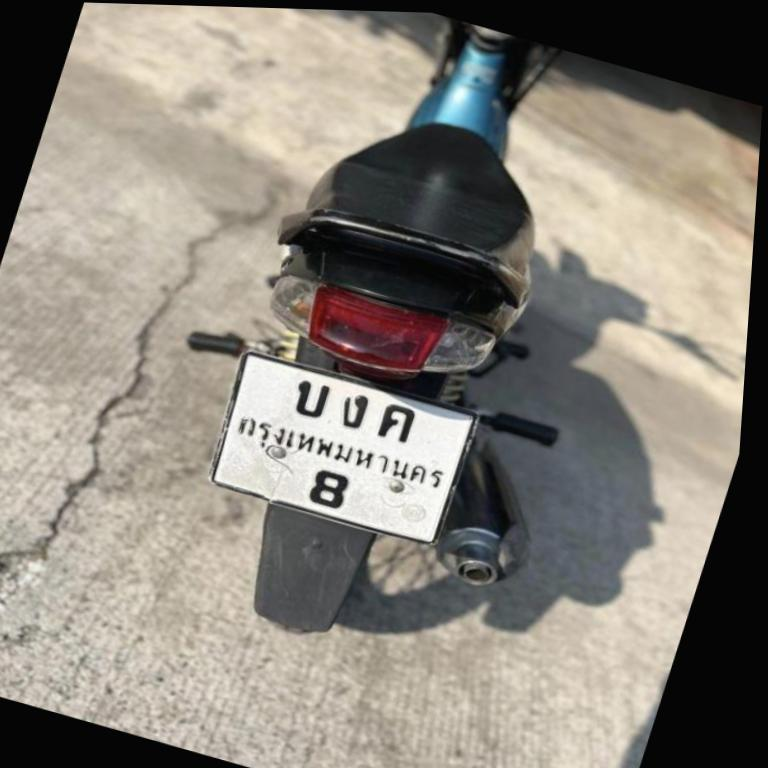license plate: (212, 354, 472, 541)
